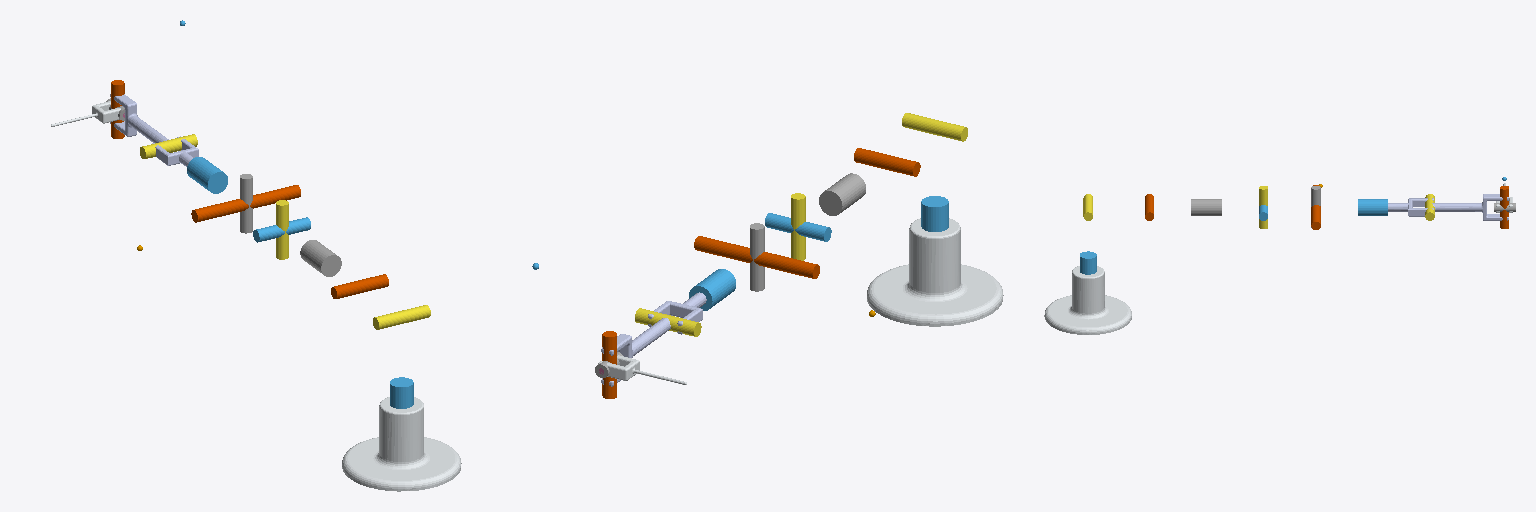
--- Facts derived from the render (not from the file) ---
Views: 3 orthographic renders of the robot side by side, from view 1: azimuth 30°, elevation 25°; view 2: azimuth 150°, elevation 25°; view 3: azimuth 270°, elevation 25°.
Model twelvedof with 42 links and 41 joints (12 continuous, 29 fixed), rooted at world, posed every joint at zero.
Links seen in each view (by area): view 1: base_link, motor7, link10, motor9, motor4, motor2, motor3, motor1, motor6, motor8, motor5, link9 (+2 smaller); view 2: base_link, motor7, motor4, motor9, link10, motor3, motor2, motor1, link9, motor8, motor5, motor6 (+3 smaller); view 3: base_link, link10, motor4.
Link boxes in pixels (x1,y1,x2,y2): base_link: (342, 397, 461, 491); motor7: (191, 185, 300, 222); link10: (110, 94, 168, 142); motor9: (187, 157, 227, 193); motor4: (300, 240, 341, 276); motor2: (373, 305, 430, 329); motor3: (331, 274, 388, 298); motor1: (390, 377, 413, 408); motor6: (276, 200, 288, 259); motor8: (240, 174, 252, 233); motor5: (253, 217, 310, 242); link9: (152, 136, 198, 166); base_link: (867, 218, 1003, 326); motor7: (694, 236, 819, 278); motor4: (819, 173, 865, 215); motor9: (689, 269, 735, 310); link10: (601, 318, 670, 386); motor3: (854, 148, 920, 176); motor2: (902, 113, 967, 141); motor1: (921, 196, 948, 231); link9: (648, 292, 706, 334); motor8: (750, 223, 764, 291); motor5: (765, 213, 831, 241); motor6: (791, 193, 805, 260); base_link: (1044, 266, 1131, 334); link10: (1432, 194, 1508, 220); motor4: (1191, 199, 1221, 215).
Size in the robot's own frame: 0.335 by 1.07 by 0.41 metres.
4 mesh visuals loaded from 13 distinct referenced files (4 binary STL); not drawn: 9 (reference not matched to a file when rendering).

URDF robot description (twelvedof):
<?xml version="1.0" encoding="utf-8"?>
<!-- This URDF was automatically created by SolidWorks to URDF Exporter! Originally created by Stephen Brawner ([email redacted]) 
     Commit Version: 1.6.0-1-g15f4949  Build Version: 1.6.7594.29634
     For more information, please see http://wiki.ros.org/sw_urdf_exporter -->
<robot
  name="twelvedof">
  
  <link name="world"/>
    
  <joint name="worldjoint" type="fixed">
    <origin xyz="0 0 0" rpy="0 0 0" />
    <parent link="world" />
    <child link="base_link" />
  </joint>

  <link name="base_link">
    <inertial>
      <origin
        xyz="-7.9441E-34 1.4856E-18 0.035234"
        rpy="0 0 0" />
      <mass
        value="10" />
      <inertia
        ixx="0.002379"
        ixy="3.1576E-35"
        ixz="-1.5303E-35"
        iyy="0.002379"
        iyz="-3.5773E-19"
        izz="0.0025484" />
    </inertial>
    <visual>
      <origin xyz="0 0 0" rpy="0 0 0" />
      <geometry>
        <mesh filename="package://twelvedof/meshes/base_link.STL" />
      </geometry>
      <material name="">
        <color rgba="0.89804 0.91765 0.92941 1" />
      </material>
    </visual>
  </link>
    
  <joint name="theta1" type="continuous">
    <origin xyz="0 0 0.105" rpy="1.5708 0 0" />
    <parent link="base_link" />
    <child link="link1" />
    <axis xyz="0 1 0" />
    <dynamics damping="1.0"/>
  </joint>

  <link name="link1">
    <inertial>
      <origin
        xyz="-1.419E-18 0.069921 -7.0908E-19"
        rpy="0 0 0" />
      <mass
        value="0.12918" />
      <inertia
        ixx="0.00038933"
        ixy="1.554E-20"
        ixz="-3.5807E-10"
        iyy="5.0815E-05"
        iyz="-1.9525E-20"
        izz="0.000405" />
    </inertial>
    <visual>
      <origin xyz="0 0 0" rpy="0 0 0" />
      <geometry>
        <mesh filename="package://twelvedof/meshes/link1.STL" />
      </geometry>
      <material name="">
        <color rgba="0.89804 0.91765 0.92941 1" />
      </material>
    </visual>
  </link>

  <joint name="theta2" type="continuous">
    <origin xyz="0 0.17 0" rpy="1.5708 1.5708 0" />
    <parent link="link1" />
    <child link="link2" />
    <axis xyz="0 1 0" />
    <dynamics damping="1.0"/>
  </joint>
  
  <link name="link2">
    <inertial>
      <origin
        xyz="0.07 -7.4661E-18 -2.6756E-09"
        rpy="0 0 0" />
      <mass
        value="0.13136" />
      <inertia
        ixx="1.9122E-05"
        ixy="4.4167E-20"
        ixz="-4.1467E-11"
        iyy="0.00034685"
        iyz="-2.4668E-11"
        izz="0.00035017" />
    </inertial>
    <visual>
      <origin xyz="0 0 0" rpy="0 0 0" />
      <geometry>
        <mesh filename="package://twelvedof/meshes/link2.STL" />
      </geometry>
      <material name="">
        <color rgba="0.79216 0.81961 0.93333 1" />
      </material>
    </visual>
  </link>
  
  <joint name="theta3" type="continuous">
    <origin xyz="0.14 0 0" rpy="0 0 1.5707963267949" />
    <parent link="link2" />
    <child link="link3" />
    <axis xyz="1 0 0" />
    <dynamics damping="1.0"/>
  </joint>
  
  <link name="link3">
    <inertial>
      <origin
        xyz="1.39165419042562E-10 -0.055569036831021 1.50739365434305E-10"
        rpy="0 0 0" />
      <mass
        value="0.0532676480842889" />
      <inertia
        ixx="7.17068684111301E-05"
        ixy="-2.2073271379026E-14"
        ixz="-1.1411130364755E-10"
        iyy="1.66776723198201E-05"
        iyz="-3.9646299805838E-14"
        izz="8.52612221768292E-05" />
    </inertial>
    <visual>
      <origin xyz="0 0 0" rpy="0 0 0" />
      <geometry>
        <mesh filename="package://twelvedof/meshes/link3.STL" />
      </geometry>
      <material name="">
        <color rgba="0.792156862745098 0.819607843137255 0.933333333333333 1" />
      </material>
    </visual>
  </link>
 
  <joint name="theta4" type="continuous">
    <origin xyz="0 -0.13 0" rpy="0 0 3.14159265358979" />
    <parent link="link3" />
    <child link="link4" />
    <axis xyz="0 1 0" />
    <dynamics damping="1.0"/>
  </joint>
 
  <link name="link4">
    <inertial>
      <origin
        xyz="3.66680228788307E-10 0.0744309630757226 4.57771598405543E-11"
        rpy="0 0 0" />
      <mass
        value="0.0532676474780037" />
      <inertia
        ixx="7.17068683212608E-05"
        ixy="-1.36945613265618E-13"
        ixz="-1.14230929893076E-10"
        iyy="1.66776720100514E-05"
        iyz="1.00418867716223E-14"
        izz="8.52612218841434E-05" />
    </inertial>
    <visual>
      <origin xyz="0 0 0" rpy="0 0 0" />
      <geometry>
        <mesh filename="package://twelvedof/meshes/link4.STL" />
      </geometry>
      <material name="">
        <color rgba="0.792156862745098 0.819607843137255 0.933333333333333 1" />
      </material>
    </visual>
  </link>

  <joint name="theta5" type="continuous">
    <origin xyz="0 0.13 0" rpy="0 -1.5707963267949 0" />
    <parent link="link4" />
    <child link="link5" />
    <axis xyz="0 0 1" />
    <dynamics damping="1.0"/>
  </joint>

  <link name="link5">
    <inertial>
      <origin
        xyz="-1.32641759797991E-08 1.7454444556364E-09 1.81333805274857E-07"
        rpy="0 0 0" />
      <mass
        value="0.00994148578496848" />
      <inertia
        ixx="1.54538351353866E-06"
        ixy="1.86661466040859E-12"
        ixz="-5.08179849707645E-12"
        iyy="1.51571936007817E-06"
        iyz="-3.23276961224318E-12"
        izz="6.20263989581308E-07" />
    </inertial>
    <visual>
      <origin xyz="0 0 0" rpy="0 0 0" />
      <geometry>
        <mesh filename="package://twelvedof/meshes/link5.STL" />
      </geometry>
      <material name="">
        <color rgba="0.898039215686275 0.917647058823529 0.929411764705882 1" />
      </material>
    </visual>
  </link>

  <joint name="theta6" type="continuous">
    <origin xyz="0 0 0" rpy="-3.14159265358979 0 0" />
    <parent link="link5" />
    <child link="link6" />
    <axis xyz="1 0 0" />
    <dynamics damping="1.0"/>
  </joint>

  <link name="link6">
    <inertial>
      <origin
        xyz="-8.98395696724563E-09 -0.0600000346635212 0.00167698865762602"
        rpy="0 0 0" />
      <mass
        value="0.0570027293868964" />
      <inertia
        ixx="8.72110819353783E-05"
        ixy="2.83939957777628E-10"
        ixz="5.72306396551074E-12"
        iyy="1.66281845808555E-05"
        iyz="2.87090876599928E-11"
        izz="8.79631628732104E-05" />
    </inertial>
    <visual>
      <origin xyz="0 0 0" rpy="0 0 0" />
      <geometry>
        <mesh filename="package://twelvedof/meshes/link6.STL" />
      </geometry>
      <material name="">
        <color rgba="0.792156862745098 0.819607843137255 0.933333333333333 1" />
      </material>
    </visual>
  </link>

  <joint name="final1" type="fixed">
    <parent link="link6"/>
    <child  link="tip_elbow"/>
    <origin xyz="0.1 0.0 0.2" rpy="1.5708 1.5708 0"/>
  </joint>

  <link name="tip_elbow"/>
  
  
<!-- SECOND HALF OF ARM -->


  <joint name="theta7" type="continuous">
    <origin xyz="0 -0.12 0" rpy="0 0 3.14159265358979" />
    <parent link="link6" />
    <child link="link7" />
    <axis xyz="1 0 0" />
    <dynamics damping="0.8"/>
  </joint>

  <link name="link7">
    <inertial>
      <origin
        xyz="-1.32641757577545E-08 1.7454445666587E-09 1.81333805254885E-07"
        rpy="0 0 0" />
      <mass
        value="0.00994148578496851" />
      <inertia
        ixx="1.54538351353867E-06"
        ixy="1.86661466222653E-12"
        ixz="-5.08179849667178E-12"
        iyy="1.51571936007817E-06"
        iyz="-3.2327696128287E-12"
        izz="6.20263989581311E-07" />
    </inertial>
    <visual>
      <origin xyz="0 0 0" rpy="0 0 0" />
      <geometry>
        <mesh filename="package://twelvedof/meshes/link7.STL" />
      </geometry>
      <material name="">
        <color rgba="0.898039215686275 0.917647058823529 0.929411764705882 1" />
      </material>
    </visual>
  </link>

  <joint name="theta8" type="continuous">
    <origin xyz="0 0 0" rpy="3.14159265358979 1.5707963267949 0" />
    <parent link="link7" />
    <child link="link8" />
    <axis xyz="1 0 0" />
    <dynamics damping="0.8"/>
  </joint>

  <link name="link8">
    <inertial>
      <origin
        xyz="-8.83495037608582E-11 -0.0555690369242776 2.55700793871938E-10"
        rpy="0 0 0" />
      <mass
        value="0.0532676474780038" />
      <inertia
        ixx="7.17068683212609E-05"
        ixy="9.27992182478001E-14"
        ixz="-1.14230930028211E-10"
        iyy="1.66776720100514E-05"
        iyz="-8.93351379369638E-14"
        izz="8.52612218841436E-05" />
    </inertial>
    <visual>
      <origin xyz="0 0 0" rpy="0 0 0" />
      <geometry>
        <mesh filename="package://twelvedof/meshes/link8.STL" />
      </geometry>
      <material name="">
        <color rgba="0.792156862745098 0.819607843137255 0.933333333333333 1" />
      </material>
    </visual>
  </link>

  <joint name="theta9" type="continuous">
    <origin xyz="0 -0.13 0" rpy="-3.14159265358978 0 0" />
    <parent link="link8" />
    <child link="link9" />
    <axis xyz="0 1 0" />
    <dynamics damping="0.8"/>
  </joint>

  <link name="link9">
    <inertial>
      <origin
        xyz="-8.83494916528465E-11 0.0744309630757227 2.55701515516904E-10"
        rpy="0 0 0" />
      <mass
        value="0.0532676474780037" />
      <inertia
        ixx="7.17068683212611E-05"
        ixy="9.27991842210463E-14"
        ixz="-1.14230929898427E-10"
        iyy="1.66776720100515E-05"
        iyz="-8.93344383273059E-14"
        izz="8.52612218841439E-05" />
    </inertial>
    <visual>
      <origin xyz="0 0 0" rpy="0 0 0" />
      <geometry>
        <mesh filename="package://twelvedof/meshes/link9.STL" />
      </geometry>
      <material name="">
        <color rgba="0.792156862745098 0.819607843137255 0.933333333333333 1" />
      </material>
    </visual>
  </link>
 
  <joint name="theta10" type="continuous">
    <origin xyz="0 0.13 0" rpy="3.14159265358979 0 1.5707963267949" />
    <parent link="link9" />
    <child link="link10" />
    <axis xyz="0 1 0" />
    <dynamics damping="0.8"/>
  </joint>
 
  <link name="link10">
    <inertial>
      <origin
        xyz="0.0858647819115578 -4.94694969462831E-05 4.79974323619459E-08"
        rpy="0 0 0" />
      <mass
        value="0.0743981881209823" />
      <inertia
        ixx="1.87713917621073E-05"
        ixy="-3.1603968463363E-07"
        ixz="2.00084585094285E-10"
        iyy="0.000245163362524828"
        iyz="3.88373017940527E-11"
        izz="0.000232598980003436" />
    </inertial>
    <visual>
      <origin xyz="0 0 0" rpy="0 0 0" />
      <geometry>
        <mesh filename="package://twelvedof/meshes/link10.STL" />
      </geometry>
      <material name="">
        <color rgba="0.792156862745098 0.819607843137255 0.933333333333333 1" />
      </material>
    </visual>
  </link>
 
  <joint name="theta11" type="continuous">
    <origin xyz="0.17 0 0" rpy="3.14159265358979 0 0" />
    <parent link="link10" />
    <child link="link11" />
    <axis xyz="0 0 1" />
    <dynamics damping="0.5"/>
  </joint>
 

  <link name="link11">
    <inertial>
      <origin
        xyz="-1.32641758687768E-08 1.74544477010197E-09 1.81333805249206E-07"
        rpy="0 0 0" />
      <mass
        value="0.0099414857849685" />
      <inertia
        ixx="1.54538351353871E-06"
        ixy="1.86623347652368E-12"
        ixz="-5.08179853781339E-12"
        iyy="1.51571936007812E-06"
        iyz="-3.23276954505056E-12"
        izz="6.20263989581311E-07" />
    </inertial>
    <visual>
      <origin xyz="0 0 0" rpy="0 0 0" />
      <geometry>
        <mesh filename="package://twelvedof/meshes/link11.STL" />
      </geometry>
      <material name="">
        <color rgba="0.898039215686275 0.917647058823529 0.929411764705882 1" />
      </material>
    </visual>
  </link>

  <joint name="theta12" type="continuous">
    <origin xyz="0 0 0" rpy="1.5707963267949 0 0" />
    <parent link="link11" />
    <child link="link12" />
    <axis xyz="1 0 0" />
    <dynamics damping="0.3"/>
  </joint>

  <link name="link12">
    <inertial>
      <origin
        xyz="3.18930326592692E-10 0 -0.0248194012953823"
        rpy="0 0 0" />
      <mass
        value="0.0230261093724122" />
      <inertia
        ixx="1.31880218422786E-05"
        ixy="-8.33050257778651E-12"
        ixz="1.06952381355644E-13"
        iyy="1.66498223037003E-05"
        iyz="-9.93988576856652E-20"
        izz="4.86490776895599E-06" />
    </inertial>
    <visual>
      <origin xyz="0 0 0" rpy="0 0 0" />
      <geometry>
        <mesh filename="package://twelvedof/meshes/link12.STL" />
      </geometry>
      <material name="">
        <color rgba="0.898039215686275 0.917647058823529 0.929411764705882 1" />
      </material>
    </visual>
  </link>

  <joint name="final2" type="fixed">
    <parent link="link12"/>
    <child  link="tip_full"/>
    <origin xyz="0 0 0.125" rpy="1.5708 1.5708 0"/>
  </joint>

  <link name="tip_full"/>










  <!-- *************************************************** -->
  <!-- ****** Building Blocks (Visual AND Inertial) ****** -->
  <!-- *************************************************** -->

  <!-- *** base_link-Fixed: Mount 1, Motor 1 *** -->

  <joint name="attach-mount1" type="fixed">
    <parent link="base_link"/>
    <child  link="mount1"/>
  </joint>
  <link name="mount1">
    <visual>
      <origin xyz="0 0 0.105" rpy="0 0 0"/>
      <geometry>
  <cylinder length="0.05" radius="0.011"/>
      </geometry>
      <material name="black"/>
    </visual>
    <collision>
      <origin xyz="0 0 0.105" rpy="0 0 0"/>
      <geometry>
  <cylinder length="0.05" radius="0.011"/>
      </geometry>
    </collision>
    <inertial>
      <origin xyz="0 0 0.105" rpy="0 0 0"/>
      <mass value="0.2"/>
      <inertia
        ixx="0.000687" ixy="0.0" ixz="0.0"
        iyy="0.000687" iyz="0.0"
        izz="1.000040"/>
    </inertial>
  </link>

  <joint name="attach-motor1" type="fixed">
    <parent link="base_link"/>
    <child  link="motor1"/>
  </joint>
  <link name="motor1">
    <visual>
      <origin xyz="0 0 0.105" rpy="0 0 0"/>
      <geometry>
  <cylinder length="0.1" radius="0.02"/>
      </geometry>
      <material name="gray"/>
    </visual>
    <collision>
      <origin xyz="0 0 0.105" rpy="0 0 0"/>
      <geometry>
  <cylinder length="0.1" radius="0.02"/>
      </geometry>
    </collision>
    <inertial>
      <origin xyz="0 0 0.405" rpy="0 0 0"/>
      <mass value="2.0"/>
      <inertia
        ixx="0.500990" ixy="0.0" ixz="0.0"
        iyy="0.000990" iyz="0.0"
        izz="0.000313"/>
    </inertial>
  </link>


  <!-- *** Motor 1 Output: Mount 2, Motor 2 *** -->

  <joint name="attach-mount2" type="fixed">
    <parent link="link1"/>
    <child  link="mount2"/>
  </joint>
  <link name="mount2">
    <visual>
      <origin xyz="0 0.17 0" rpy="0 -1.5708 0"/>
      <geometry>
  <cylinder length="0.05" radius="0.005"/>
      </geometry>
      <material name="black"/>
    </visual>
    <collision>
      <origin xyz="0 0.17 0" rpy="0 -1.5708 0"/>
      <geometry>
  <cylinder length="0.05" radius="0.005"/>
      </geometry>
    </collision>
    <inertial>
      <origin xyz="0 0.17 0" rpy="0 -1.5708 0"/>
      <mass value="0.2"/>
      <inertia
        ixx="0.000687" ixy="0.0" ixz="0.0"
        iyy="0.000687" iyz="0.0"
        izz="1.000040"/>
    </inertial>
  </link>

  <joint name="attach-motor2" type="fixed">
    <parent link="link1"/>
    <child  link="motor2"/>
  </joint>
  <link name="motor2">
    <visual>
      <origin xyz="0 0.17 0" rpy="0 -1.5708 0"/>
      <geometry>
  <cylinder length="0.1" radius="0.011"/>
      </geometry>
      <material name="gray"/>
    </visual>
    <collision>
      <origin xyz="0 0.17 0" rpy="0 -1.5708 0"/>
      <geometry>
  <cylinder length="0.1" radius="0.011"/>
      </geometry>
    </collision>
    <inertial>
      <origin xyz="0 0.17 0" rpy="0 -1.5708 0"/>
      <mass value="2.0"/>
      <inertia
        ixx="0.500990" ixy="0.0" ixz="0.0"
        iyy="0.000990" iyz="0.0"
        izz="0.000313"/>
    </inertial>
  </link>


  <!-- *** Motor 2 Output: Mount 3, Motor 3 *** -->

  <joint name="attach-mount3" type="fixed">
    <parent link="link2"/>
    <child  link="mount3"/>
  </joint>
  <link name="mount3">
    <visual>
      <origin xyz="0.14 0 0" rpy="0 -1.5708 -1.5708"/>
      <geometry>
  <cylinder length="0.05" radius="0.005"/>
      </geometry>
      <material name="black"/>
    </visual>
    <collision>
      <origin xyz="0.14 0 0" rpy="0 -1.5708 -1.5708"/>
      <geometry>
  <cylinder length="0.05" radius="0.005"/>
      </geometry>
    </collision>
    <inertial>
      <origin xyz="0.14 0 0" rpy="0 -1.5708 -1.5708"/>
      <mass value="0.2"/>
      <inertia
        ixx="0.000687" ixy="0.0" ixz="0.0"
        iyy="0.000687" iyz="0.0"
        izz="1.000040"/>
    </inertial>
  </link>

  <joint name="attach-motor3" type="fixed">
    <parent link="link2"/>
    <child  link="motor3"/>
  </joint>
  <link name="motor3">
    <visual>
      <origin xyz="0.14 0 0" rpy="0 -1.5708 -1.5708"/>
      <geometry>
  <cylinder length="0.1" radius="0.011"/>
      </geometry>
      <material name="gray"/>
    </visual>
    <collision>
      <origin xyz="0.14 0 0" rpy="0 -1.5708 -1.5708"/>
      <geometry>
  <cylinder length="0.1" radius="0.011"/>
      </geometry>
    </collision>
    <inertial>
      <origin xyz="0.14 0 0" rpy="0 -1.5708 -1.5708"/>
      <mass value="2.0"/>
      <inertia
        ixx="0.500990" ixy="0.0" ixz="0.0"
        iyy="0.000990" iyz="0.0"
        izz="0.000313"/>
    </inertial>
  </link>


  <!-- *** Motor 3 Output: Mount 4, Motor 4 *** -->

  <joint name="attach-mount4" type="fixed">
    <parent link="link3"/>
    <child  link="mount4"/>
  </joint>
  <link name="mount4">
    <visual>
      <origin xyz="0 -0.13 0" rpy="-1.5708 0 0"/>
      <geometry>
  <cylinder length="0.035" radius="0.011"/>
      </geometry>
      <material name="black"/>
    </visual>
    <collision>
      <origin xyz="0 -0.13 0" rpy="-1.5708 0 0"/>
      <geometry>
  <cylinder length="0.035" radius="0.011"/>
      </geometry>
    </collision>
    <inertial>
      <origin xyz="0 -0.13 0" rpy="-1.5708 0 0"/>
      <mass value="0.2"/>
      <inertia
        ixx="0.000687" ixy="0.0" ixz="0.0"
        iyy="0.000687" iyz="0.0"
        izz="1.000040"/>
    </inertial>
  </link>

  <joint name="attach-motor4" type="fixed">
    <parent link="link3"/>
    <child  link="motor4"/>
  </joint>
  <link name="motor4">
    <visual>
      <origin xyz="0 -0.13 0" rpy="-1.5708 0 0"/>
      <geometry>
  <cylinder length="0.07" radius="0.02"/>
      </geometry>
      <material name="gray"/>
    </visual>
    <collision>
      <origin xyz="0 -0.13 0" rpy="-1.5708 0 0"/>
      <geometry>
  <cylinder length="0.07" radius="0.02"/>
      </geometry>
    </collision>
    <inertial>
      <origin xyz="0 -0.13 0" rpy="-1.5708 0 0"/>
      <mass value="1.5"/>
      <inertia
        ixx="0.500990" ixy="0.0" ixz="0.0"
        iyy="0.000990" iyz="0.0"
        izz="0.000313"/>
    </inertial>
  </link>


  <!-- *** Motor 4 Output: Mount 5, Motor 5 *** -->

  <joint name="attach-mount5" type="fixed">
    <parent link="link4"/>
    <child  link="mount5"/>
  </joint>
  <link name="mount5">
    <visual>
      <origin xyz="0 0.13 0" rpy="0 -1.5708 0"/>
      <geometry>
  <cylinder length="0.05" radius="0.005"/>
      </geometry>
      <material name="black"/>
    </visual>
    <collision>
      <origin xyz="0 0.13 0" rpy="0 -1.5708 0"/>
      <geometry>
  <cylinder length="0.05" radius="0.005"/>
      </geometry>
    </collision>
    <inertial>
      <origin xyz="0 0.13 0" rpy="0 -1.5708 0"/>
      <mass value="0.2"/>
      <inertia
        ixx="0.000687" ixy="0.0" ixz="0.0"
        iyy="0.000687" iyz="0.0"
        izz="1.000040"/>
    </inertial>
  </link>

  <joint name="attach-motor5" type="fixed">
    <parent link="link4"/>
    <child  link="motor5"/>
  </joint>
  <link name="motor5">
    <visual>
      <origin xyz="0 0.13 0" rpy="0 -1.5708 0"/>
      <geometry>
  <cylinder length="0.1" radius="0.011"/>
      </geometry>
      <material name="gray"/>
    </visual>
    <collision>
      <origin xyz="0 0.13 0" rpy="0 -1.5708 0"/>
      <geometry>
  <cylinder length="0.1" radius="0.011"/>
      </geometry>
    </collision>
    <inertial>
      <origin xyz="0 0.13 0" rpy="0 -1.5708 0"/>
      <mass value="1.5"/>
      <inertia
        ixx="0.500990" ixy="0.0" ixz="0.0"
        iyy="0.000990" iyz="0.0"
        izz="0.000313"/>
    </inertial>
  </link>


  <!-- *** Motor 5 Output: Mount 6, Motor 6 *** -->

  <joint name="attach-mount6" type="fixed">
    <parent link="link5"/>
    <child  link="mount6"/>
  </joint>
  <link name="mount6">
    <visual>
      <origin xyz="0 0 0" rpy="0 -1.5708 0"/>
      <geometry>
  <cylinder length="0.05" radius="0.005"/>
      </geometry>
      <material name="black"/>
    </visual>
    <collision>
      <origin xyz="0 0 0" rpy="0 -1.5708 0"/>
      <geometry>
  <cylinder length="0.05" radius="0.005"/>
      </geometry>
    </collision>
    <inertial>
      <origin xyz="0 0 0" rpy="0 -1.5708 0"/>
      <mass value="0.2"/>
      <inertia
        ixx="0.000687" ixy="0.0" ixz="0.0"
        iyy="0.000687" iyz="0.0"
        izz="1.000040"/>
    </inertial>
  </link>

  <joint name="attach-motor6" type="fixed">
    <parent link="link5"/>
    <child  link="motor6"/>
  </joint>
  <link name="motor6">
    <visual>
      <origin xyz="0 0 0" rpy="0 -1.5708 0"/>
      <geometry>
  <cylinder length="0.1" radius="0.011"/>
      </geometry>
      <material name="gray"/>
    </visual>
    <collision>
      <origin xyz="0 0 0" rpy="0 -1.5708 0"/>
      <geometry>
  <cylinder length="0.1" radius="0.011"/>
      </geometry>
    </collision>
    <inertial>
      <origin xyz="0 0 0" rpy="0 -1.5708 0"/>
      <mass value="1.5"/>
      <inertia
        ixx="0.500990" ixy="0.0" ixz="0.0"
        iyy="0.000990" iyz="0.0"
        izz="0.000313"/>
    </inertial>
  </link>


  <!-- *** Motor 6 Output: Mount 7, Motor 7 *** -->

  <joint name="attach-mount7" type="fixed">
    <parent link="link6"/>
    <child  link="mount7"/>
  </joint>
  <link name="mount7">
    <visual>
      <origin xyz="0 -0.12 0" rpy="0 0 0"/>
      <geometry>
  <cylinder length="0.05" radius="0.005"/>
      </geometry>
      <material name="black"/>
    </visual>
    <collision>
      <origin xyz="0 -0.12 0" rpy="0 0 0"/>
      <geometry>
  <cylinder length="0.05" radius="0.005"/>
      </geometry>
    </collision>
    <inertial>
      <origin xyz="0 -0.12 0" rpy="0 0 0"/>
      <mass value="0.2"/>
      <inertia
        ixx="0.000687" ixy="0.0" ixz="0.0"
        iyy="0.000687" iyz="0.0"
        izz="1.000040"/>
    </inertial>
  </link>

  <joint name="attach-motor7" type="fixed">
    <parent link="link6"/>
    <child  link="motor7"/>
  </joint>
  <link name="motor7">
    <visual>
      <origin xyz="0 -0.12 0" rpy="0 0 0"/>
      <geometry>
  <cylinder length="0.2" radius="0.011"/>
      </geometry>
      <material name="gray"/>
    </visual>
    <collision>
      <origin xyz="0 -0.12 0" rpy="0 0 0"/>
      <geometry>
  <cylinder length="0.1" radius="0.011"/>
      </geometry>
    </collision>
    <inertial>
      <origin xyz="0 -0.12 0" rpy="0 0 0"/>
      <mass value="1.5"/>
      <inertia
        ixx="0.500990" ixy="0.0" ixz="0.0"
        iyy="0.000990" iyz="0.0"
        izz="0.000313"/>
    </inertial>
  </link>


  <!-- *** Motor 7 Output: Mount 8, Motor 8 *** -->

  <joint name="attach-mount8" type="fixed">
    <parent link="link7"/>
    <child  link="mount8"/>
  </joint>
  <link name="mount8">
    <visual>
      <origin xyz="0 0 0" rpy="0 -1.5707963267949 0"/>
      <geometry>
  <cylinder length="0.05" radius="0.005"/>
      </geometry>
      <material name="black"/>
    </visual>
    <collision>
      <origin xyz="0 0 0" rpy="0 -1.5707963267949 0"/>
      <geometry>
  <cylinder length="0.05" radius="0.005"/>
      </geometry>
    </collision>
    <inertial>
      <origin xyz="0 0 0" rpy="0 -1.5707963267949 0"/>
      <mass value="0.2"/>
      <inertia
        ixx="0.000687" ixy="0.0" ixz="0.0"
        iyy="0.000687" iyz="0.0"
        izz="1.000040"/>
    </inertial>
  </link>

  <joint name="attach-motor8" type="fixed">
    <parent link="link7"/>
    <child  link="motor8"/>
  </joint>
  <link name="motor8">
    <visual>
      <origin xyz="0 0 0" rpy="0 -1.5707963267949 0"/>
      <geometry>
  <cylinder length="0.1" radius="0.011"/>
      </geometry>
      <material name="gray"/>
    </visual>
    <collision>
      <origin xyz="0 0 0" rpy="0 -1.5707963267949 0"/>
      <geometry>
  <cylinder length="0.1" radius="0.011"/>
      </geometry>
    </collision>
    <inertial>
      <origin xyz="0 0 0" rpy="0 -1.5707963267949 0"/>
      <mass value="1.0"/>
      <inertia
        ixx="0.500990" ixy="0.0" ixz="0.0"
        iyy="0.000990" iyz="0.0"
        izz="0.000313"/>
    </inertial>
  </link>


  <!-- *** Motor 8 Output: Mount 9, Motor 9 *** -->

  <joint name="attach-mount9" type="fixed">
    <parent link="link8"/>
    <child  link="mount9"/>
  </joint>
  <link name="mount9">
    <visual>
      <origin xyz="0 -0.13 0" rpy="1.5707963267949 0 0"/>
      <geometry>
  <cylinder length="0.05" radius="0.005"/>
      </geometry>
      <material name="black"/>
    </visual>
    <collision>
      <origin xyz="0 -0.13 0" rpy="1.5707963267949 0 0"/>
      <geometry>
  <cylinder length="0.05" radius="0.005"/>
      </geometry>
    </collision>
    <inertial>
      <origin xyz="0 -0.13 0" rpy="1.5707963267949 0 0"/>
      <mass value="0.2"/>
      <inertia
        ixx="0.000687" ixy="0.0" ixz="0.0"
        iyy="0.000687" iyz="0.0"
        izz="1.000040"/>
    </inertial>
  </link>

  <joint name="attach-motor9" type="fixed">
    <parent link="link8"/>
    <child  link="motor9"/>
  </joint>
  <link name="motor9">
    <visual>
      <origin xyz="0 -0.13 0" rpy="1.5707963267949 0 0"/>
      <geometry>
  <cylinder length="0.07" radius="0.02"/>
      </geometry>
      <material name="gray"/>
    </visual>
    <collision>
      <origin xyz="0 -0.13 0" rpy="1.5707963267949 0 0"/>
      <geometry>
  <cylinder length="0.07" radius="0.02"/>
      </geometry>
    </collision>
    <inertial>
      <origin xyz="0 -0.13 0" rpy="1.5707963267949 0 0"/>
      <mass value="1.0"/>
      <inertia
        ixx="0.500990" ixy="0.0" ixz="0.0"
        iyy="0.000990" iyz="0.0"
        izz="0.000313"/>
    </inertial>
  </link>


  <!-- *** Motor 9 Output: Mount 10, Motor 10 *** -->

  <joint name="attach-mount10" type="fixed">
    <parent link="link9"/>
    <child  link="mount10"/>
  </joint>
  <link name="mount10">
    <visual>
      <origin xyz="0 0.13 0" rpy="0 -1.5707963267949 0"/>
      <geometry>
  <cylinder length="0.05" radius="0.005"/>
      </geometry>
      <material name="black"/>
    </visual>
    <collision>
      <origin xyz="0 0.13 0" rpy="0 -1.5707963267949 0"/>
      <geometry>
  <cylinder length="0.05" radius="0.005"/>
      </geometry>
    </collision>
    <inertial>
      <origin xyz="0 0.13 0" rpy="0 -1.5707963267949 0"/>
      <mass value="0.2"/>
      <inertia
        ixx="0.000687" ixy="0.0" ixz="0.0"
        iyy="0.000687" iyz="0.0"
        izz="1.000040"/>
    </inertial>
  </link>

  <joint name="attach-motor10" type="fixed">
    <parent link="link9"/>
    <child  link="motor10"/>
  </joint>
  <link name="motor10">
    <visual>
      <origin xyz="0 0.13 0" rpy="0 -1.5707963267949 0"/>
      <geometry>
  <cylinder length="0.1" radius="0.011"/>
      </geometry>
      <material name="gray"/>
    </visual>
    <collision>
      <origin xyz="0 0.13 0" rpy="0 -1.5707963267949 0"/>
      <geometry>
  <cylinder length="0.1" radius="0.011"/>
      </geometry>
    </collision>
    <inertial>
      <origin xyz="0 0.13 0" rpy="0 -1.5707963267949 0"/>
      <mass value="1.0"/>
      <inertia
        ixx="0.500990" ixy="0.0" ixz="0.0"
        iyy="0.000990" iyz="0.0"
        izz="0.000313"/>
    </inertial>
  </link>


  <!-- *** Motor 10 Output: Mount 11, Motor 11 *** -->

  <joint name="attach-mount11" type="fixed">
    <parent link="link10"/>
    <child  link="mount11"/>
  </joint>
  <link name="mount11">
    <visual>
      <origin xyz="0.17 0 0" rpy="-3.14159265358979 0 0"/>
      <geometry>
  <cylinder length="0.05" radius="0.005"/>
      </geometry>
      <material name="black"/>
    </visual>
    <collision>
      <origin xyz="0.17 0 0" rpy="-3.14159265358979 0 0"/>
      <geometry>
  <cylinder length="0.05" radius="0.005"/>
      </geometry>
    </collision>
    <inertial>
      <origin xyz="0.17 0 0" rpy="-3.14159265358979 0 0"/>
      <mass value="0.2"/>
      <inertia
        ixx="0.000687" ixy="0.0" ixz="0.0"
        iyy="0.000687" iyz="0.0"
        izz="1.000040"/>
    </inertial>
  </link>

  <joint name="attach-motor11" type="fixed">
    <parent link="link10"/>
    <child  link="motor11"/>
  </joint>
  <link name="motor11">
    <visual>
      <origin xyz="0.17 0 0" rpy="-3.14159265358979 0 0"/>
      <geometry>
  <cylinder length="0.1" radius="0.011"/>
      </geometry>
      <material name="gray"/>
    </visual>
    <collision>
      <origin xyz="0.17 0 0" rpy="-3.14159265358979 0 0"/>
      <geometry>
  <cylinder length="0.1" radius="0.011"/>
      </geometry>
    </collision>
    <inertial>
      <origin xyz="0.17 0 0" rpy="-3.14159265358979 0 0"/>
      <mass value="1.0"/>
      <inertia
        ixx="0.500990" ixy="0.0" ixz="0.0"
        iyy="0.000990" iyz="0.0"
        izz="0.000313"/>
    </inertial>
  </link>


  <!-- *** Motor 11 Output: Mount 12, Motor 12 *** -->

  <joint name="attach-mount12" type="fixed">
    <parent link="link11"/>
    <child  link="mount12"/>
  </joint>
  <link name="mount12">
    <visual>
      <origin xyz="0 0 0" rpy="0 -1.5707963267949 0"/>
      <geometry>
  <cylinder length="0.05" radius="0.005"/>
      </geometry>
      <material name="black"/>
    </visual>
    <collision>
      <origin xyz="0 0 0" rpy="0 -1.5707963267949 0"/>
      <geometry>
  <cylinder length="0.05" radius="0.005"/>
      </geometry>
    </collision>
    <inertial>
      <origin xyz="0 0 0" rpy="0 -1.5707963267949 0"/>
      <mass value="0.2"/>
      <inertia
        ixx="0.000687" ixy="0.0" ixz="0.0"
        iyy="0.000687" iyz="0.0"
        izz="1.000040"/>
    </inertial>
  </link>

  <joint name="attach-motor12" type="fixed">
    <parent link="link11"/>
    <child  link="motor12"/>
  </joint>
  <link name="motor12">
    <visual>
      <origin xyz="0 0 0" rpy="0 -1.5707963267949 0"/>
      <geometry>
  <cylinder length="0.05" radius="0.011"/>
      </geometry>
      <material name="gray"/>
    </visual>
    <collision>
      <origin xyz="0 0 0" rpy="0 -1.5707963267949 0"/>
      <geometry>
  <cylinder length="0.05" radius="0.011"/>
      </geometry>
    </collision>
    <inertial>
      <origin xyz="0 0 0" rpy="0 -1.5707963267949 0"/>
      <mass value="1.0"/>
      <inertia
        ixx="0.500990" ixy="0.0" ixz="0.0"
        iyy="0.000990" iyz="0.0"
        izz="0.000313"/>
    </inertial>
  </link>



  <!-- *** Motor 6 Output: Sphere1 *** -->

  <joint name="attach-sphere1" type="fixed">
    <parent link="tip_elbow"/>
    <child  link="sphere1"/>
  </joint>
  <link name="sphere1">
    <visual>
      <origin xyz="0 -0.06 0.13" rpy="0 0 0"/>
      <geometry>
	      <sphere radius="0.005"/>
      </geometry>
      <material name="green"/>
    </visual>
    <collision>
      <origin xyz="0 -0.06 0.13" rpy="0 0 0"/>
      <geometry>
	      <sphere radius="0.005"/>
      </geometry>
      <material name="green"/>
    </collision>
    <inertial>
      <origin xyz="0 -0.06 0.13" rpy="0 0 0"/>
      <mass value="0.01"/>
      <inertia
        ixx="0.01" ixy="0.0" ixz="0.0"
        iyy="0.01" iyz="0.0"
        izz="0.01"/>
    </inertial>
  </link>

  <!-- *** Motor 12 Output: Sphere2 *** -->

  <joint name="attach-sphere2" type="fixed">
    <parent link="tip_full"/>
    <child  link="sphere2"/>
  </joint>
  <link name="sphere2">
    <visual>
      <origin xyz="0 0 -0.13" rpy="0 0 0"/>
      <geometry>
	      <sphere radius="0.005"/>
      </geometry>
      <material name="green"/>
    </visual>
    <collision>
      <origin xyz="0 0 -0.13" rpy="0 0 0"/>
      <geometry>
	      <sphere radius="0.005"/>
      </geometry>
      <material name="green"/>
    </collision>
    <inertial>
      <origin xyz="0 0 -0.13" rpy="0 0 0"/>
      <mass value="0.01"/>
      <inertia
        ixx="0.01" ixy="0.0" ixz="0.0"
        iyy="0.01" iyz="0.0"
        izz="0.01"/>
    </inertial>
  </link>




  <!-- *************************************************** -->
  <!-- ******************* Gazebo Colors ***************** -->
  <!-- *************************************************** -->

  <gazebo reference="motor1"> <material>Gazebo/Gray</material>  </gazebo>
  <gazebo reference="motor2"> <material>Gazebo/Gray</material>  </gazebo>
  <gazebo reference="motor3"> <material>Gazebo/Gray</material>  </gazebo>
  <gazebo reference="motor4"> <material>Gazebo/Gray</material>  </gazebo>
  <gazebo reference="motor5"> <material>Gazebo/Gray</material>  </gazebo>
  <gazebo reference="motor6"> <material>Gazebo/Gray</material>  </gazebo>
  <gazebo reference="motor7"> <material>Gazebo/Gray</material>  </gazebo>
  <gazebo reference="motor8"> <material>Gazebo/Gray</material>  </gazebo>
  <gazebo reference="motor9"> <material>Gazebo/Gray</material>  </gazebo>
  <gazebo reference="motor10"> <material>Gazebo/Gray</material>  </gazebo>
  <gazebo reference="motor11"> <material>Gazebo/Gray</material>  </gazebo>
  <gazebo reference="motor12"> <material>Gazebo/Gray</material>  </gazebo>

  <gazebo reference="mount1">   <material>Gazebo/Black</material> </gazebo>
  <gazebo reference="mount2">   <material>Gazebo/Black</material> </gazebo>
  <gazebo reference="mount3">   <material>Gazebo/Black</material> </gazebo>
  <gazebo reference="mount4">   <material>Gazebo/Black</material> </gazebo>
  <gazebo reference="mount5">   <material>Gazebo/Black</material> </gazebo>
  <gazebo reference="mount6">   <material>Gazebo/Black</material> </gazebo>
  <gazebo reference="mount7">   <material>Gazebo/Black</material> </gazebo>
  <gazebo reference="mount8">   <material>Gazebo/Black</material> </gazebo>
  <gazebo reference="mount9">   <material>Gazebo/Black</material> </gazebo>
  <gazebo reference="mount10">   <material>Gazebo/Black</material> </gazebo>
  <gazebo reference="mount11">   <material>Gazebo/Black</material> </gazebo>
  <gazebo reference="mount12">   <material>Gazebo/Black</material> </gazebo>

  <gazebo reference="sphere">  <material>Gazebo/Green</material>  </gazebo>
  
 



  <!-- *************************************************** -->
  <!-- ************** Gazebo Transmissions *************** -->
  <!-- *************************************************** -->

  <transmission name="trans1">
    <type>transmission_interface/SimpleTransmission</type>
    <joint name="theta1">
      <hardwareInterface>hardware_interface/EffortJointInterface</hardwareInterface>
    </joint>
    <actuator name="motor1">
      <mechanicalReduction>1</mechanicalReduction>
      <hardwareInterface>hardware_interface/EffortJointInterface</hardwareInterface>
    </actuator>
  </transmission>
  
  <transmission name="trans2">
    <type>transmission_interface/SimpleTransmission</type>
    <joint name="theta2">
      <hardwareInterface>hardware_interface/EffortJointInterface</hardwareInterface>
    </joint>
    <actuator name="motor2">
      <mechanicalReduction>1</mechanicalReduction>
      <hardwareInterface>hardware_interface/EffortJointInterface</hardwareInterface>
    </actuator>
  </transmission>
  
  <transmission name="trans3">
    <type>transmission_interface/SimpleTransmission</type>
    <joint name="theta3">
      <hardwareInterface>hardware_interface/EffortJointInterface</hardwareInterface>
    </joint>
    <actuator name="motor3">
      <mechanicalReduction>1</mechanicalReduction>
      <hardwareInterface>hardware_interface/EffortJointInterface</hardwareInterface>
    </actuator>
  </transmission>
  
  <transmission name="trans4">
    <type>transmission_interface/SimpleTransmission</type>
    <joint name="theta4">
      <hardwareInterface>hardware_interface/EffortJointInterface</hardwareInterface>
    </joint>
    <actuator name="motor4">
      <mechanicalReduction>1</mechanicalReduction>
      <hardwareInterface>hardware_interface/EffortJointInterface</hardwareInterface>
    </actuator>
  </transmission>
  
  <transmission name="trans5">
    <type>transmission_interface/SimpleTransmission</type>
    <joint name="theta5">
      <hardwareInterface>hardware_interface/EffortJointInterface</hardwareInterface>
    </joint>
    <actuator name="motor5">
      <mechanicalReduction>1</mechanicalReduction>
      <hardwareInterface>hardware_interface/EffortJointInterface</hardwareInterface>
    </actuator>
  </transmission>
  
  <transmission name="trans6">
    <type>transmission_interface/SimpleTransmission</type>
    <joint name="theta6">
      <hardwareInterface>hardware_interface/EffortJointInterface</hardwareInterface>
    </joint>
    <actuator name="motor6">
      <mechanicalReduction>1</mechanicalReduction>
      <hardwareInterface>hardware_interface/EffortJointInterface</hardwareInterface>
    </actuator>
  </transmission>
  
  <transmission name="trans7">
    <type>transmission_interface/SimpleTransmission</type>
    <joint name="theta7">
      <hardwareInterface>hardware_interface/EffortJointInterface</hardwareInterface>
    </joint>
    <actuator name="motor7">
      <mechanicalReduction>1</mechanicalReduction>
      <hardwareInterface>hardware_interface/EffortJointInterface</hardwareInterface>
    </actuator>
  </transmission>

  <transmission name="trans8">
    <type>transmission_interface/SimpleTransmission</type>
    <joint name="theta8">
      <hardwareInterface>hardware_interface/EffortJointInterface</hardwareInterface>
    </joint>
    <actuator name="motor8">
      <mechanicalReduction>1</mechanicalReduction>
      <hardwareInterface>hardware_interface/EffortJointInterface</hardwareInterface>
    </actuator>
  </transmission>

  <transmission name="trans9">
    <type>transmission_interface/SimpleTransmission</type>
    <joint name="theta9">
      <hardwareInterface>hardware_interface/EffortJointInterface</hardwareInterface>
    </joint>
    <actuator name="motor9">
      <mechanicalReduction>1</mechanicalReduction>
      <hardwareInterface>hardware_interface/EffortJointInterface</hardwareInterface>
    </actuator>
  </transmission>

  <transmission name="trans10">
    <type>transmission_interface/SimpleTransmission</type>
    <joint name="theta10">
      <hardwareInterface>hardware_interface/EffortJointInterface</hardwareInterface>
    </joint>
    <actuator name="motor10">
      <mechanicalReduction>1</mechanicalReduction>
      <hardwareInterface>hardware_interface/EffortJointInterface</hardwareInterface>
    </actuator>
  </transmission>

  <transmission name="trans11">
    <type>transmission_interface/SimpleTransmission</type>
    <joint name="theta11">
      <hardwareInterface>hardware_interface/EffortJointInterface</hardwareInterface>
    </joint>
    <actuator name="motor11">
      <mechanicalReduction>1</mechanicalReduction>
      <hardwareInterface>hardware_interface/EffortJointInterface</hardwareInterface>
    </actuator>
  </transmission>

  <transmission name="trans12">
    <type>transmission_interface/SimpleTransmission</type>
    <joint name="theta12">
      <hardwareInterface>hardware_interface/EffortJointInterface</hardwareInterface>
    </joint>
    <actuator name="motor12">
      <mechanicalReduction>1</mechanicalReduction>
      <hardwareInterface>hardware_interface/EffortJointInterface</hardwareInterface>
    </actuator>
  </transmission>

  
  <!-- *************************************************** -->
  <!-- *************** Gazebo Controllers **************** -->
  <!-- *************************************************** -->

  <gazebo>
    <plugin name="gazebo_ros_control" filename="libgazebo_ros_control.so">
      <robotNamespace>/twelvedof</robotNamespace>
      <robotSimType>gazebo_ros_control/DefaultRobotHWSim</robotSimType>
    </plugin>
  </gazebo>



</robot>
